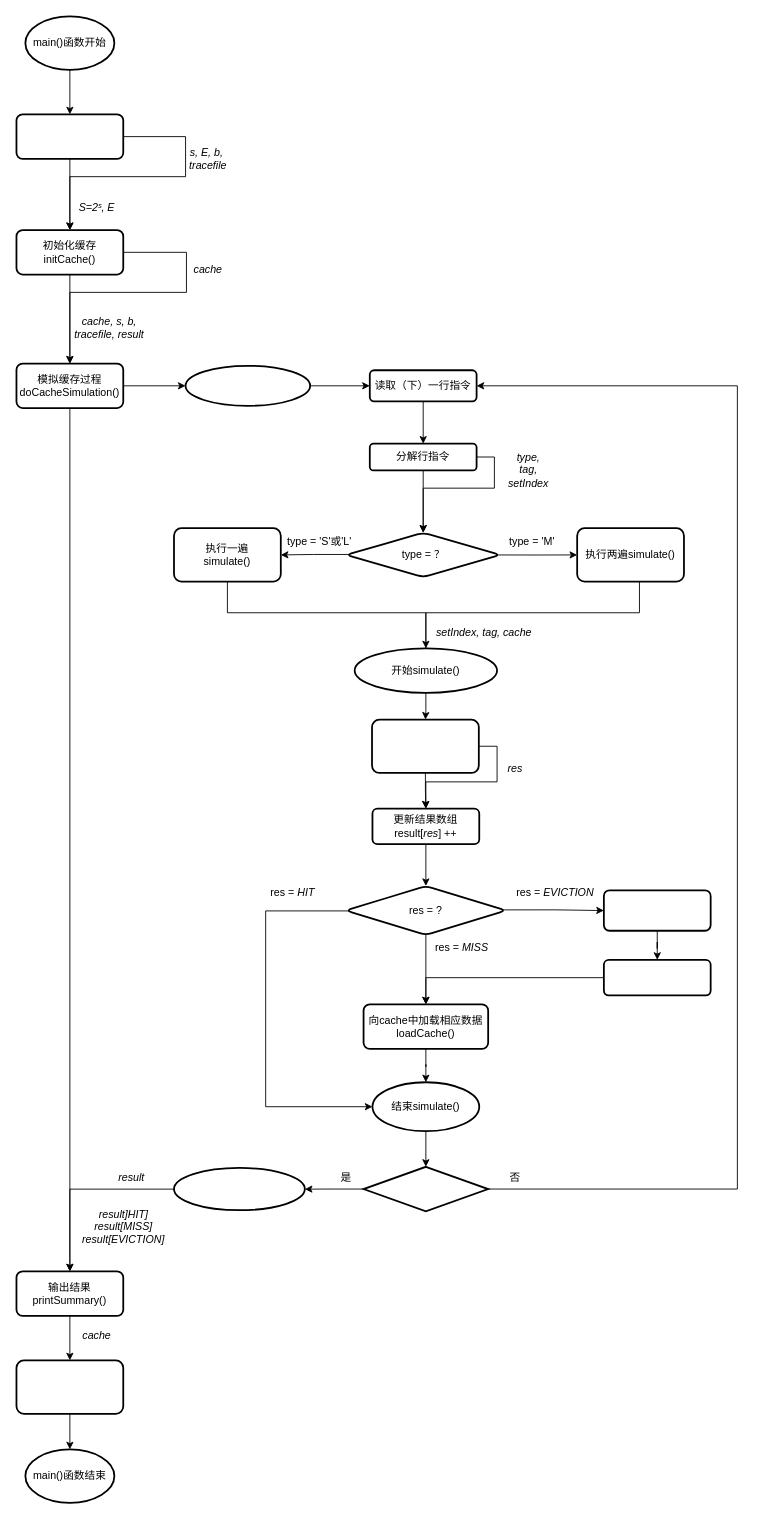
This 760x1518 diagram has some shape labels left out. Each missing label, with the centre of its shape:
"LRU策略驱逐组内块 LRU_evict()" belongs at pixel 657 910.
"result[ MISS ] ++" belongs at pixel 657 977.
"开始 doCacheSimulation()" belongs at pixel 247 385.
"是否读取完tracefile" belongs at pixel 425 1188.
"结束 doCacheSimulation()" belongs at pixel 239 1189.
"访问缓存后返回状态 checkCache()" belongs at pixel 425 745.
"读取命令行参数 readCommandline()" belongs at pixel 69 136.
"释放内存 freeCache()" belongs at pixel 69 1386.
